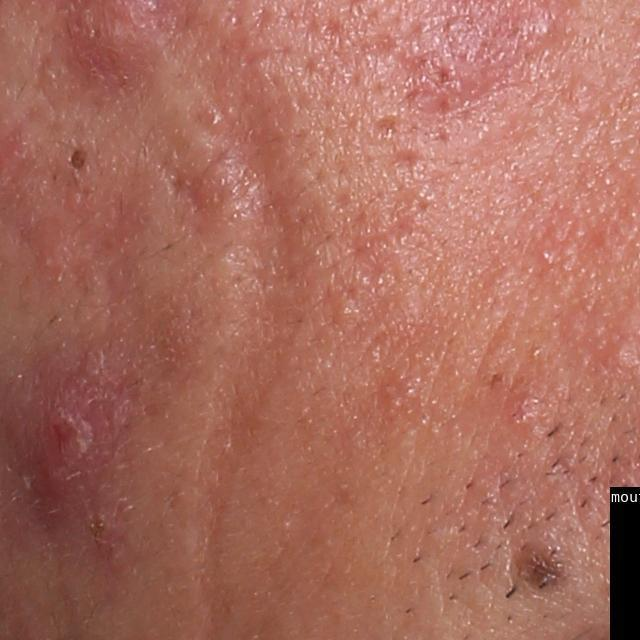atrophic_scar: (370, 113, 401, 138), (389, 146, 424, 168)
comedo: (62, 136, 94, 176), (606, 341, 633, 365)
nevus: (520, 544, 567, 597)
papule: (523, 6, 562, 46)
